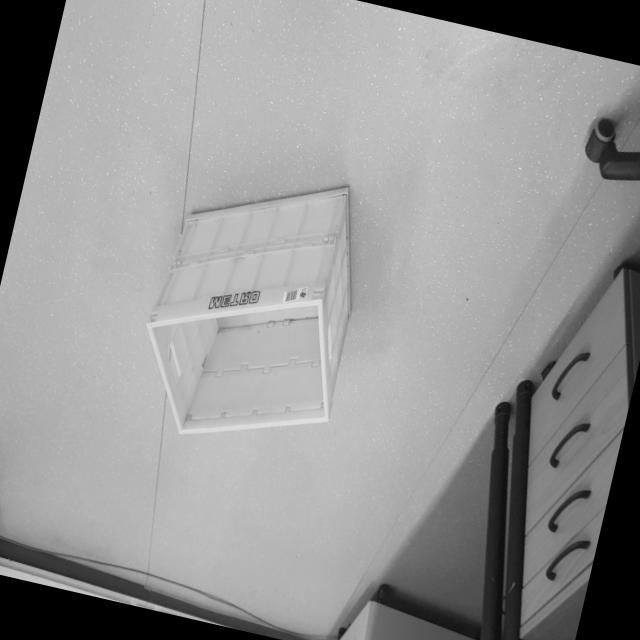box: (118, 144, 387, 474)
